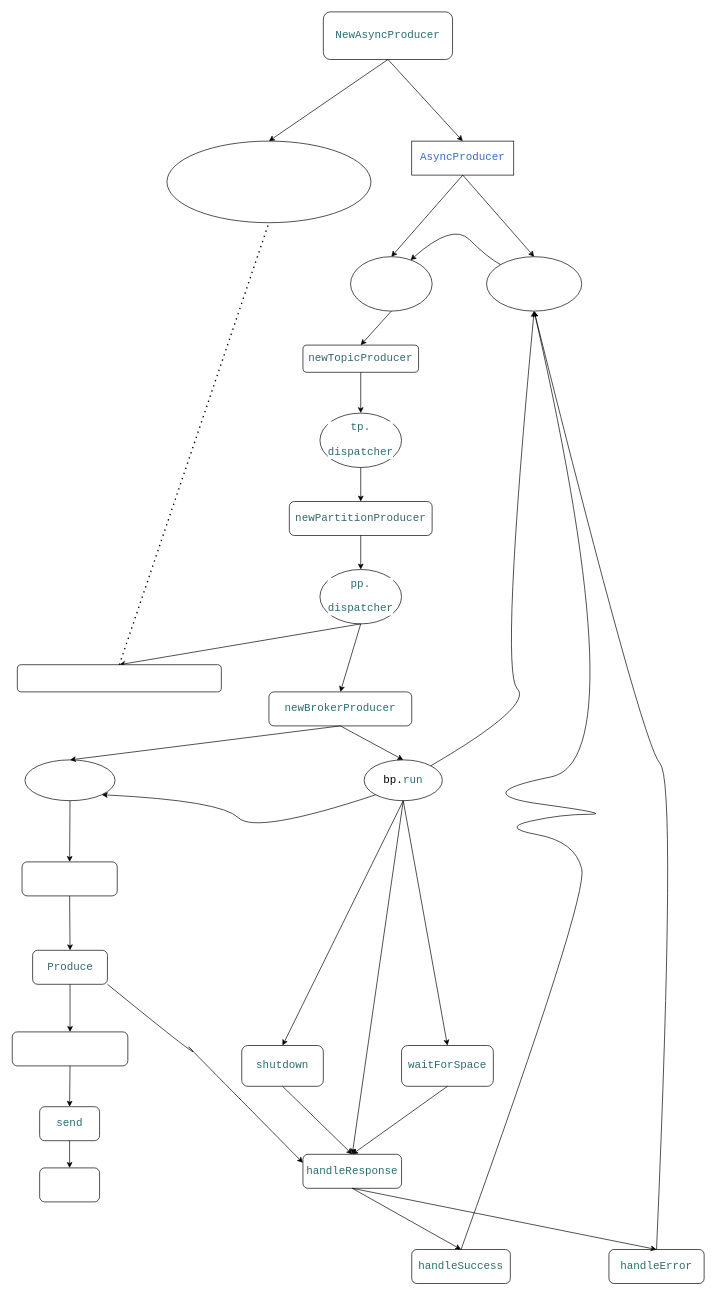
Some shapes in this 716 by 1295 pixel diagram are drawn without their labels. Each missing label, with the box of its shape:
buildRequest: (21, 861, 117, 896)
client. backgroundMetadataUpdater: (166, 140, 371, 223)
dispatcher: (350, 256, 432, 311)
Leader ( pp . topic , pp . partition ): (17, 664, 221, 692)
range output: (24, 759, 115, 801)
retryHandler: (486, 256, 582, 311)
sendAndReceive: (12, 1031, 128, 1066)
write: (39, 1167, 100, 1202)
